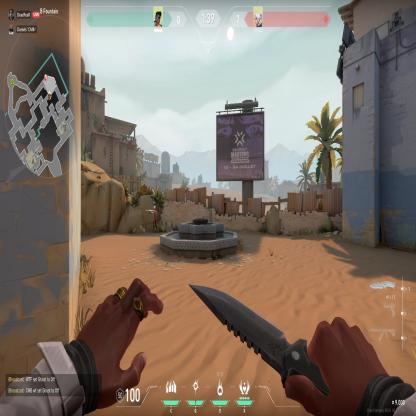enemy: (151, 206, 159, 233)
